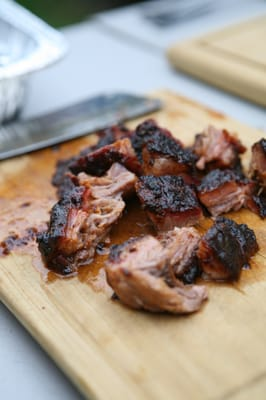sandwich: (1, 93, 160, 161)
